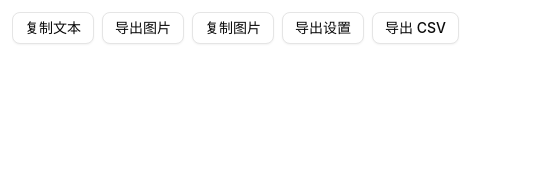
UsageExportActions（计划② Task 11：复制文本 + CSV 导出） › 6. 复制图片：出图 → 剪贴板（ClipboardItem image/png）→「图片已复制」；成功也不给「打开所在目录」
The image size is (544, 172).
Click the button with test id "usage-export-copy-image". click: (233, 28)
box: x1=192 y1=12 x2=274 y2=44
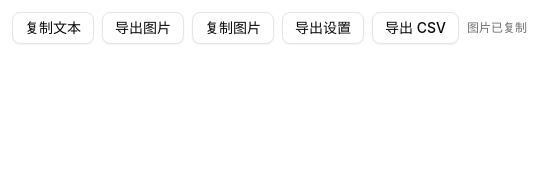
Now the message with test id "usage-export-toast" reads "图片已复制", box x1=467 y1=20 x2=527 y2=35
